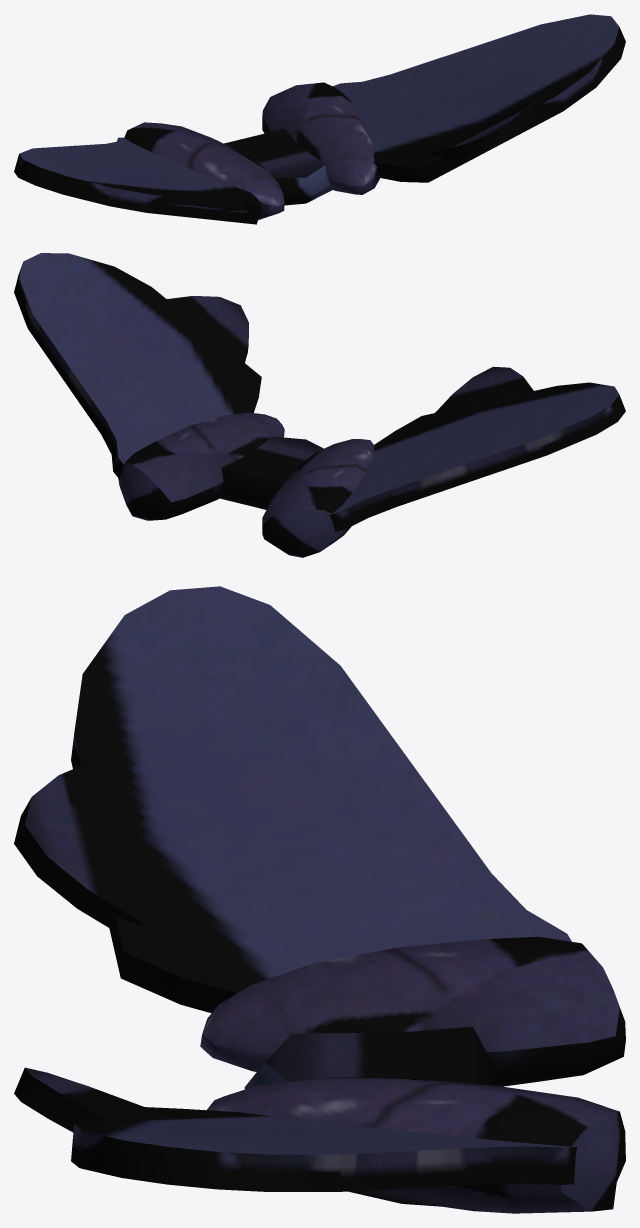
Rendered from ship18a.fbx.
3 views of the same model, one above another, from view 1: azimuth 30°, elevation 25°; view 2: azimuth 150°, elevation 25°; view 3: azimuth 270°, elevation 25° (orthographic). The views are drawn at different scales.
Parts seen in each view (by area): view 1: PipelineFBX; view 2: PipelineFBX; view 3: PipelineFBX.
Boxes of the visible parts, x1,y1,x2,y2 form: PipelineFBX: [14, 14, 625, 224]; PipelineFBX: [14, 253, 625, 557]; PipelineFBX: [14, 586, 625, 1213].
Bounding box in the file's own units: 113 × 24.93 × 50.55.
Materials: 1 (1 with a texture image).
